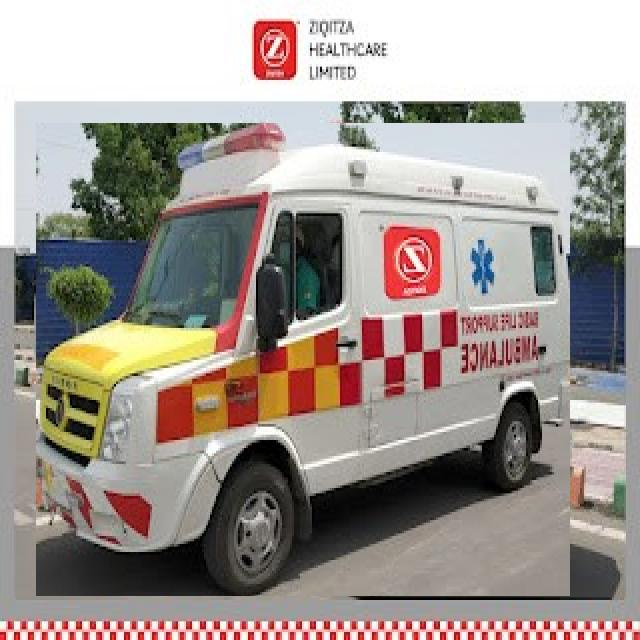emergency: (36, 123, 570, 596)
